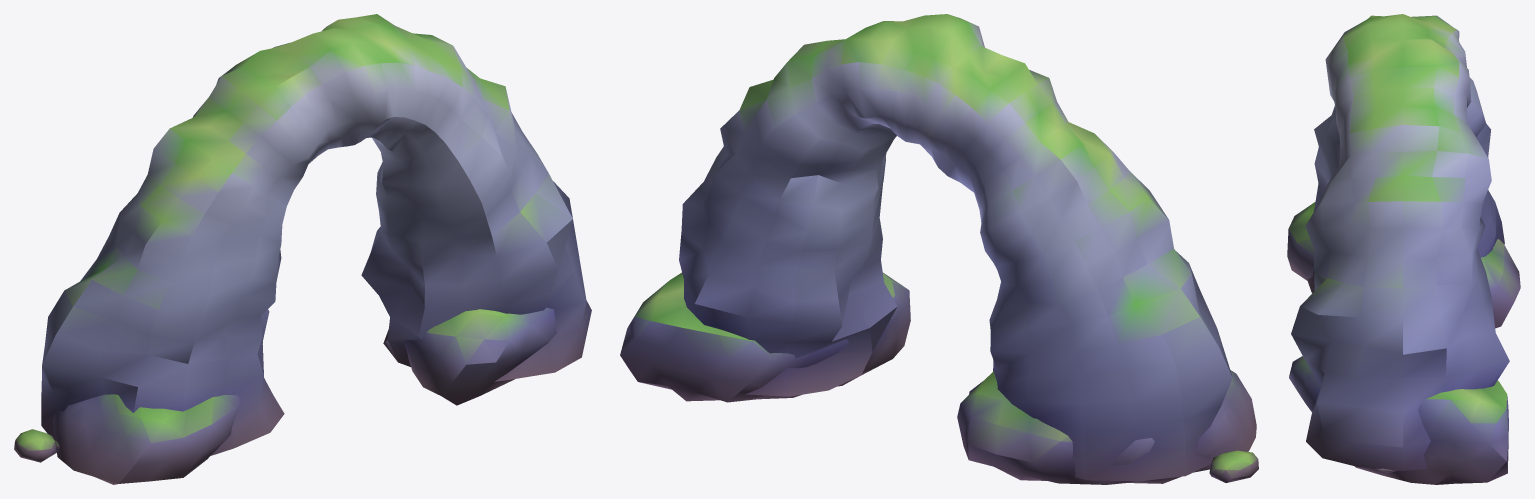
File: verdant_arch_natural_b.glb
3 views of the same model, side by side, from view 1: azimuth 30°, elevation 25°; view 2: azimuth 150°, elevation 25°; view 3: azimuth 270°, elevation 25° (orthographic). The views are drawn at different scales.
Visible parts, largest first — view 1: verdant_arch_natural_b; view 2: verdant_arch_natural_b; view 3: verdant_arch_natural_b.
Boxes of the visible parts, box(x1,y1,x2,y2) form: verdant_arch_natural_b: box(14, 14, 591, 484); verdant_arch_natural_b: box(620, 14, 1258, 484); verdant_arch_natural_b: box(1287, 14, 1520, 484).
Bounding box in the file's own units: 23.57 × 14.77 × 8.83.
